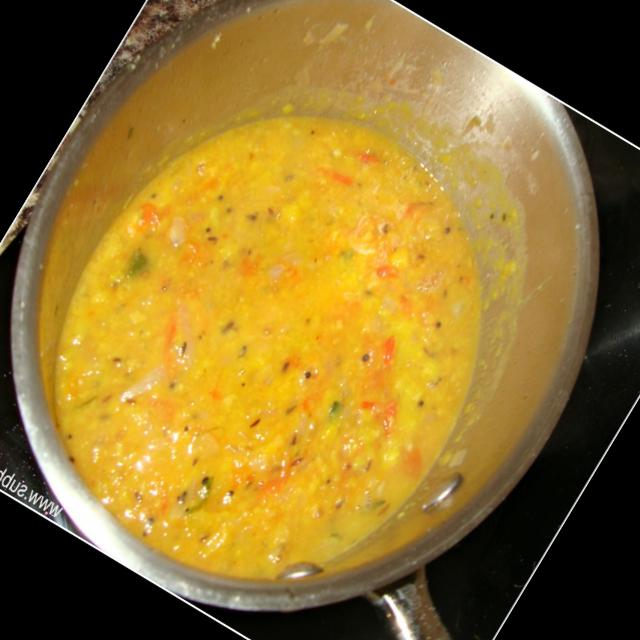dal: (0, 41, 561, 640)
